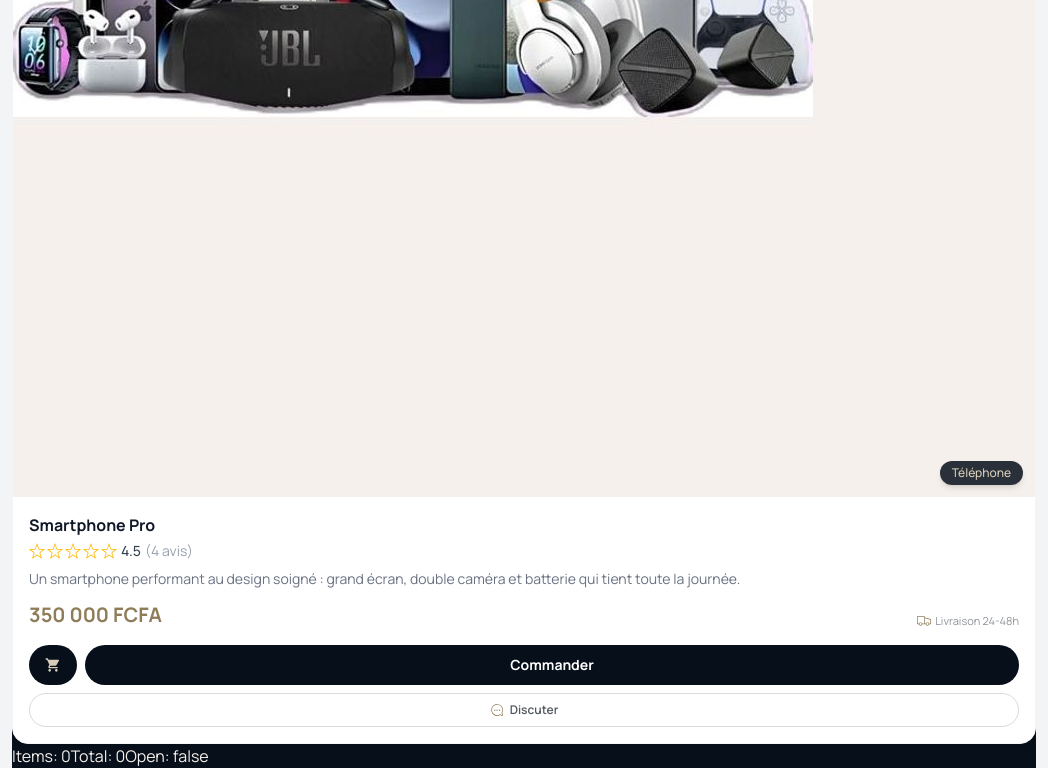
Scenario: ProductCard › ajoute le produit et ouvre le panier au clic sur « Commander »
(page scrolled)
Click the button "Commander": x=552, y=665 [85,645,1019,685]
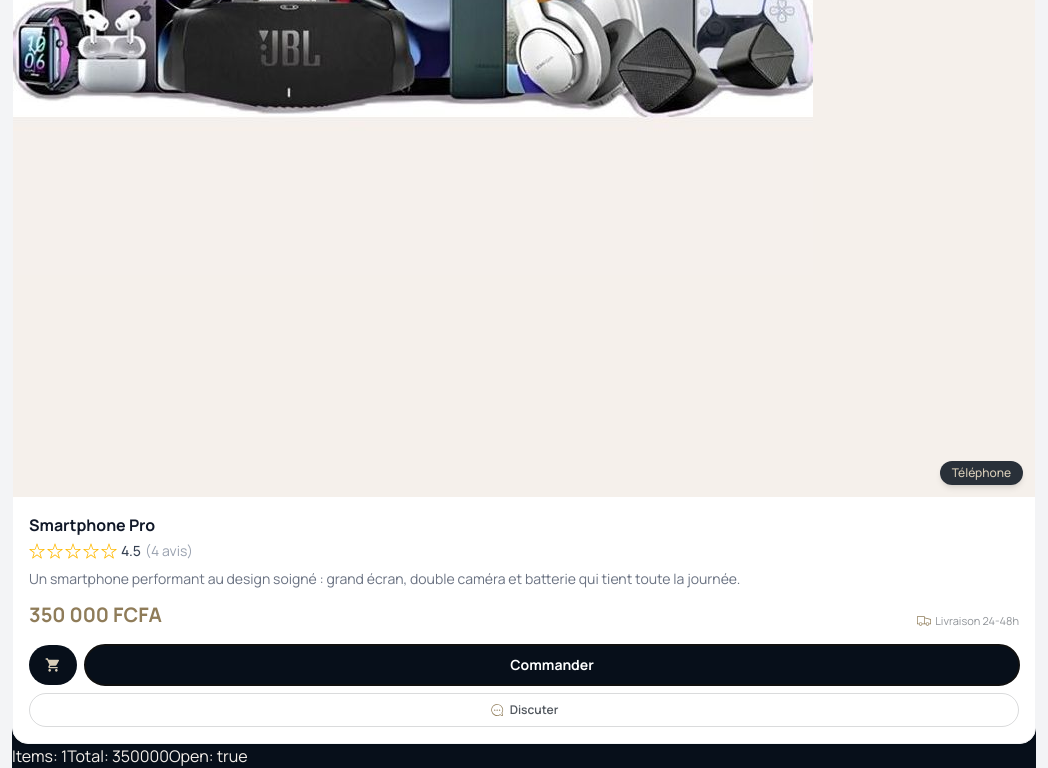
Check: the text "Items: 1" is shown, box [12,745,67,767]
Check: the text "Open: true" is shown, box [169,745,248,767]
